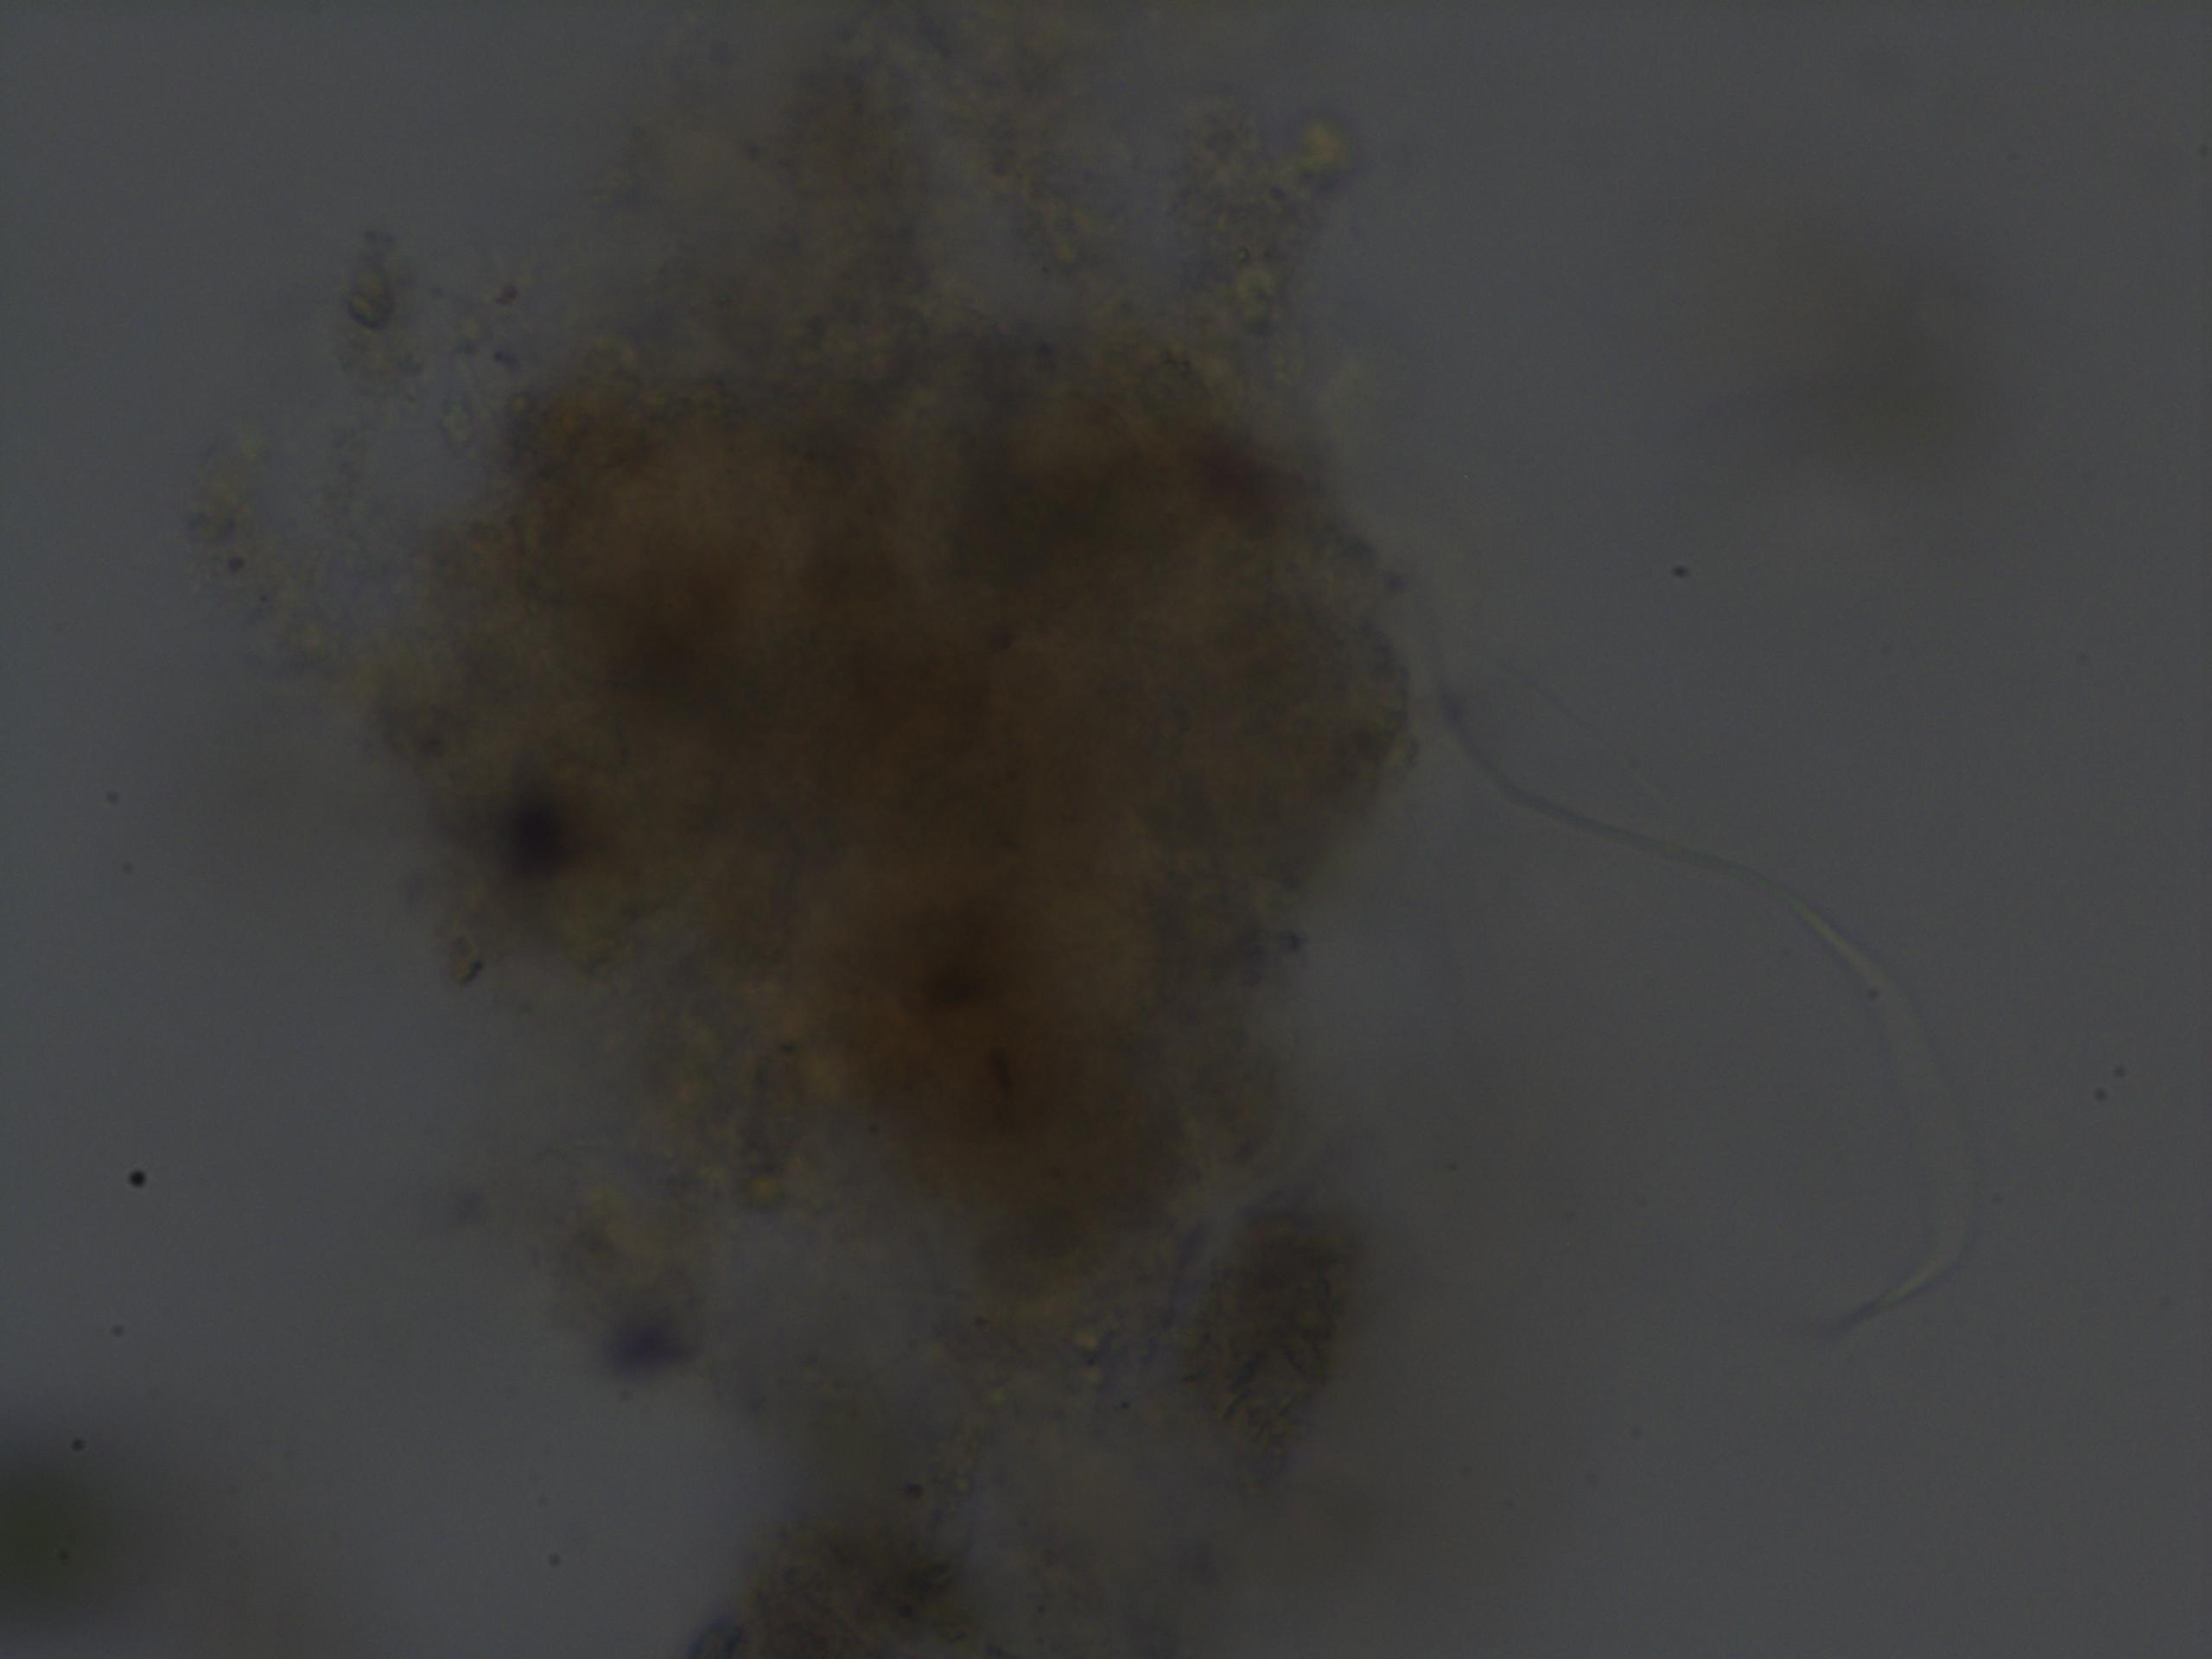filament: (1390, 587, 2003, 1358)
spherical_floc: (387, 277, 1426, 1338)
